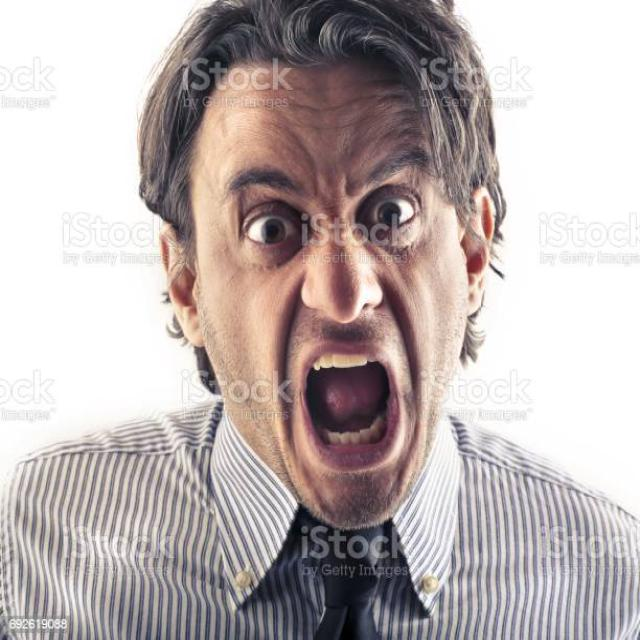angry: (146, 38, 516, 526)
